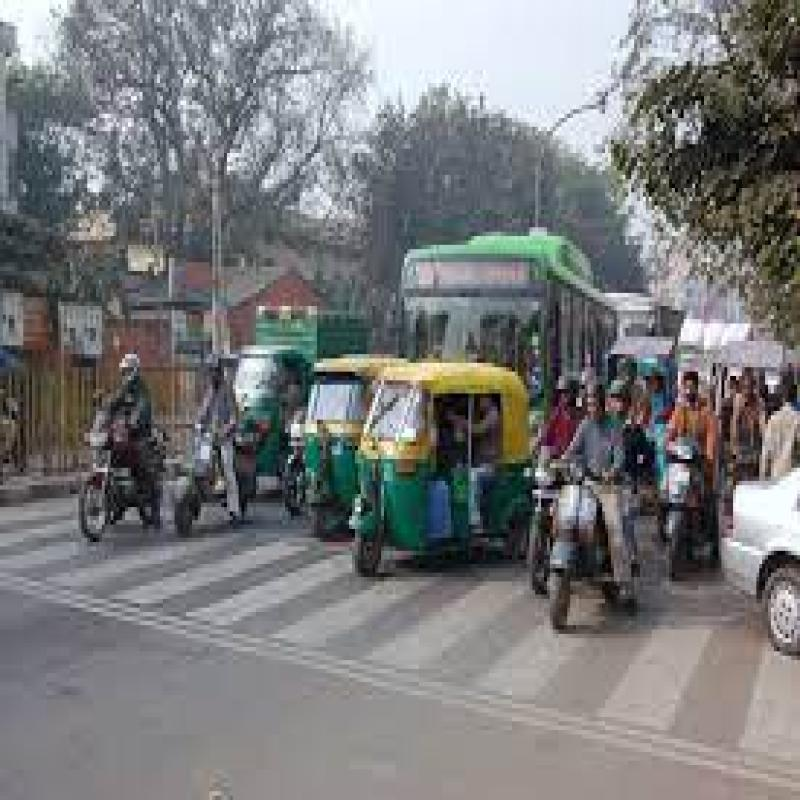auto: (351, 369, 528, 551), (308, 350, 398, 509)
bike: (382, 232, 602, 416), (540, 469, 634, 598), (164, 419, 262, 509), (75, 406, 141, 530)
